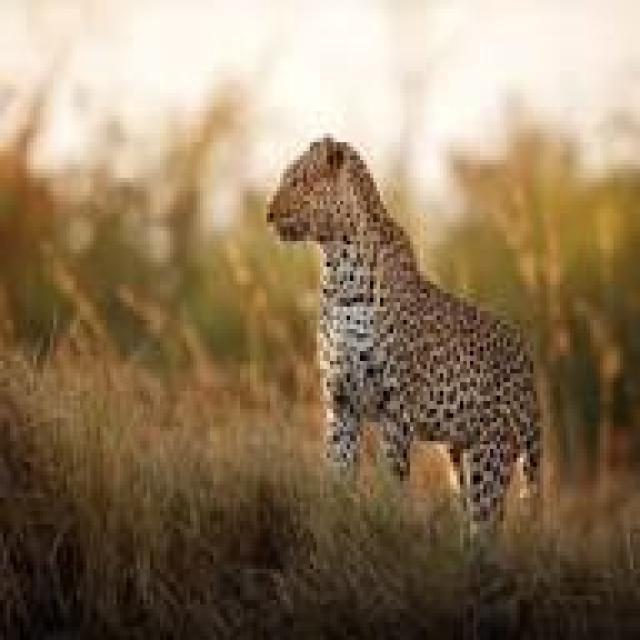Animal: (237, 89, 569, 538)
Forest: (0, 0, 640, 640)
